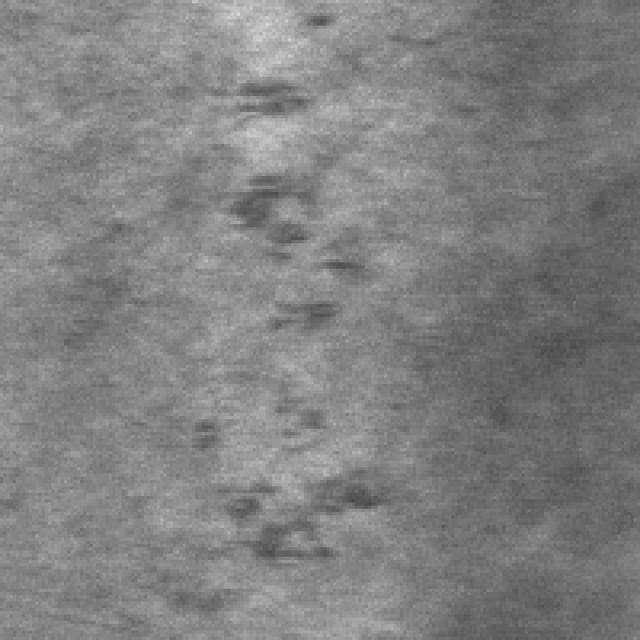rolled-in_scale: (202, 42, 406, 570)
